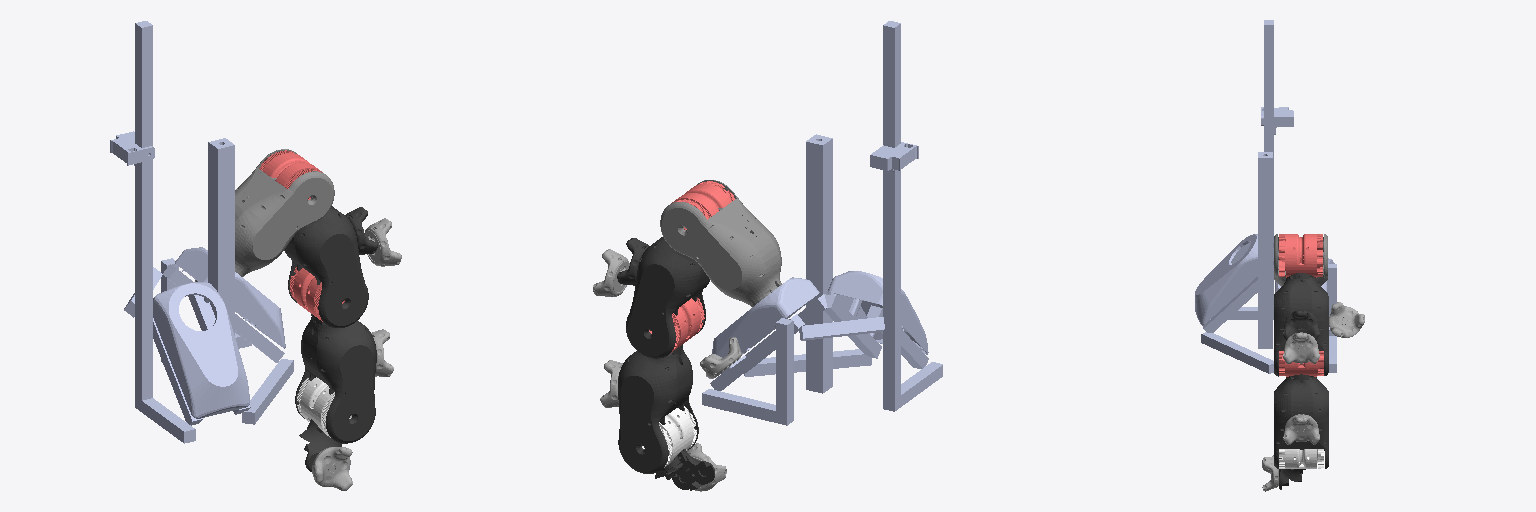
URDF robot description (koko_description_sevendof_kin):
<robot
  name="koko_description_sevendof_kin">
  <link name="world"/>
  <link
    name="base_link">
    <inertial>
      <origin
        xyz="-0.0162355282130734 -0.163407878532806 0.226370025444826"
        rpy="0 0 0" />
      <mass
        value="3.09843836934056" />
      <inertia
        ixx="0.138191233116688"
        ixy="-0.00802218717745325"
        ixz="0.0273663369091256"
        iyy="0.148987368304478"
        iyz="0.000607150072268011"
        izz="0.048852842888534" />
    </inertial>
    <visual>
      <origin
        xyz="0 0 0"
        rpy="0 0 0" />
      <geometry>
        <mesh
          filename="package://koko_description_sevendof_kin/meshes/base_link.STL" />
      </geometry>
      <material
        name="">
        <color
          rgba="0.792156862745098 0.819607843137255 0.933333333333333 1" />
      </material>
    </visual>
    <collision>
      <origin
        xyz="0 0 0"
        rpy="0 0 0" />
      <geometry>
        <mesh
          filename="package://koko_description_sevendof_kin/meshes/base_link.STL" />
      </geometry>
    </collision>
  </link>
  <link
    name="shoulder_link">
    <inertial>
      <origin
        xyz="-0.00747864351627375 -2.50397592105878E-05 0.0799283081146881"
        rpy="0 0 0" />
      <mass
        value="4.07268991609326" />
      <inertia
        ixx="0.00617147281166975"
        ixy="-6.49724457121408E-07"
        ixz="-7.27903739429383E-06"
        iyy="0.0063318653169091"
        iyz="-4.16732368499518E-07"
        izz="0.00594002741384536" />
    </inertial>
    <visual>
      <origin
        xyz="0 0 0"
        rpy="0 0 0" />
      <geometry>
        <mesh
          filename="package://koko_description_sevendof_kin/meshes/shoulder_link.STL" />
      </geometry>
      <material
        name="">
        <color
          rgba="0.6 0.6 0.6 1" />
      </material>
    </visual>
    <collision>
      <origin
        xyz="0 0 0"
        rpy="0 0 0" />
      <geometry>
        <mesh
          filename="package://koko_description_sevendof_kin/meshes/shoulder_link.STL" />
      </geometry>
    </collision>
  </link>
  <joint
    name="base_roll_joint"
    type="continuous">
    <origin
      xyz="0.0966447291250239 -0.0908049999999999 0.218621617367798"
      rpy="6.83851519316138E-15 0.785398163397447 4.83556046633164E-15" />
    <parent
      link="base_link" />
    <child
      link="shoulder_link" />
    <axis
      xyz="0 0 1" />
  </joint>
  <link
    name="shoulder_lift_link">
    <inertial>
      <origin
        xyz="-0.000676899401893527 0.0018433180520101 -2.77770789702814E-08"
        rpy="0 0 0" />
      <mass
        value="0.437261383344117" />
      <inertia
        ixx="0.00102940359203976"
        ixy="-2.02406904345771E-05"
        ixz="-6.05075416333182E-07"
        iyy="0.00107935729264567"
        iyz="-8.0338056417151E-07"
        izz="0.000657525915707047" />
    </inertial>
    <visual>
      <origin
        xyz="0 0 0"
        rpy="0 0 0" />
      <geometry>
        <mesh
          filename="package://koko_description_sevendof_kin/meshes/shoulder_lift_link.STL" />
      </geometry>
      <material
        name="">
        <color
          rgba="1 0.501960784313725 0.501960784313725 1" />
      </material>
    </visual>
    <collision>
      <origin
        xyz="0 0 0"
        rpy="0 0 0" />
      <geometry>
        <mesh
          filename="package://koko_description_sevendof_kin/meshes/shoulder_lift_link.STL" />
      </geometry>
    </collision>
  </link>
  <joint
    name="shoulder_lift_joint"
    type="continuous">
    <origin
      xyz="0.0114299285786579 4.04065193964076E-05 0.201676000000001"
      rpy="1.5707963267949 -0.785395039094458 0.0035351359132397" />
    <parent
      link="shoulder_link" />
    <child
      link="shoulder_lift_link" />
    <axis
      xyz="0 0 1" />
  </joint>
  <link
    name="upper_arm_link">
    <inertial>
      <origin
        xyz="0.0070833841046884 -1.71819518151595E-05 0.0555370874496117"
        rpy="0 0 0" />
      <mass
        value="4.18907578737678" />
      <inertia
        ixx="0.00781255478717919"
        ixy="5.14383226102207E-07"
        ixz="0.000159572102703506"
        iyy="0.00800712978437617"
        iyz="1.49483634622705E-06"
        izz="0.00602786031254171" />
    </inertial>
    <visual>
      <origin
        xyz="0 0 0"
        rpy="0 0 0" />
      <geometry>
        <mesh
          filename="package://koko_description_sevendof_kin/meshes/upper_arm_link.STL" />
      </geometry>
      <material
        name="">
        <color
          rgba="0.298039215686275 0.298039215686275 0.298039215686275 1" />
      </material>
    </visual>
    <collision>
      <origin
        xyz="0 0 0"
        rpy="0 0 0" />
      <geometry>
        <mesh
          filename="package://koko_description_sevendof_kin/meshes/upper_arm_link.STL" />
      </geometry>
    </collision>
  </link>
  <joint
    name="shoulder_roll_joint"
    type="continuous">
    <origin
      xyz="0.0245928594751605 -0.0662368609534871 0"
      rpy="1.5707963267949 -0.00266644576657517 0.355511126450564" />
    <parent
      link="shoulder_lift_link" />
    <child
      link="upper_arm_link" />
    <axis
      xyz="0 0 -1" />
  </joint>
  <link
    name="upper_arm_tracker_link">
    <inertial>
      <origin
        xyz="-5.22464942198653E-07 3.04440674980255E-05 0.0143118472437344"
        rpy="0 0 0" />
      <mass
        value="0.0852060551384698" />
      <inertia
        ixx="5.0259679636726E-05"
        ixy="3.31729794270551E-09"
        ixz="9.97594746056167E-10"
        iyy="5.05437136305498E-05"
        iyz="-1.54431162931432E-07"
        izz="8.48824712915186E-05" />
    </inertial>
    <visual>
      <origin
        xyz="0 0 0"
        rpy="0 0 0" />
      <geometry>
        <mesh
          filename="package://koko_description_sevendof_kin/meshes/upper_arm_tracker_link.STL" />
      </geometry>
      <material
        name="">
        <color
          rgba="0.698039215686274 0.698039215686274 0.698039215686274 1" />
      </material>
    </visual>
    <collision>
      <origin
        xyz="0 0 0"
        rpy="0 0 0" />
      <geometry>
        <mesh
          filename="package://koko_description_sevendof_kin/meshes/upper_arm_tracker_link.STL" />
      </geometry>
    </collision>
  </link>
  <joint
    name="upper_arm_tracker_joint"
    type="fixed">
    <origin
      xyz="0.0683718268246616 -0.000182516337945637 0.096542684260402"
      rpy="1.26028781893805 -2.27414330644165E-05 1.56813717848772" />
    <parent
      link="upper_arm_link" />
    <child
      link="upper_arm_tracker_link" />
    <axis
      xyz="0 0 0" />
  </joint>
  <link
    name="upper_arm_lift_link">
    <inertial>
      <origin
        xyz="-0.000105474282203089 0.00200117636989308 2.90462086605103E-08"
        rpy="0 0 0" />
      <mass
        value="0.424523133438859" />
      <inertia
        ixx="0.00100928705819507"
        ixy="-7.12152739432192E-06"
        ixz="-1.82982482423601E-06"
        iyy="0.00107277793996398"
        iyz="-7.5965992301599E-07"
        izz="0.00065849713712334" />
    </inertial>
    <visual>
      <origin
        xyz="0 0 0"
        rpy="0 0 0" />
      <geometry>
        <mesh
          filename="package://koko_description_sevendof_kin/meshes/upper_arm_lift_link.STL" />
      </geometry>
      <material
        name="">
        <color
          rgba="1 0.501960784313725 0.501960784313725 1" />
      </material>
    </visual>
    <collision>
      <origin
        xyz="0 0 0"
        rpy="0 0 0" />
      <geometry>
        <mesh
          filename="package://koko_description_sevendof_kin/meshes/upper_arm_lift_link.STL" />
      </geometry>
    </collision>
  </link>
  <joint
    name="elbow_lift_joint"
    type="continuous">
    <origin
      xyz="-0.0114299548892374 3.04756154084207E-05 0.181015691851649"
      rpy="-1.5707963267949 -0.355504877844586 -0.0026664457665753" />
    <parent
      link="upper_arm_link" />
    <child
      link="upper_arm_lift_link" />
    <axis
      xyz="0 0 1" />
  </joint>
  <link
    name="forearm_link">
    <inertial>
      <origin
        xyz="0.00737184271707708 -6.85904067550536E-05 0.0579584206277633"
        rpy="0 0 0" />
      <mass
        value="4.11546002232608" />
      <inertia
        ixx="0.0066395722416814"
        ixy="4.24565711453013E-07"
        ixz="-3.06041081234074E-05"
        iyy="0.00678943046956531"
        iyz="1.89471924685132E-06"
        izz="0.00596314364300775" />
    </inertial>
    <visual>
      <origin
        xyz="0 0 0"
        rpy="0 0 0" />
      <geometry>
        <mesh
          filename="package://koko_description_sevendof_kin/meshes/forearm_link.STL" />
      </geometry>
      <material
        name="">
        <color
          rgba="0.298039215686275 0.298039215686275 0.298039215686275 1" />
      </material>
    </visual>
    <collision>
      <origin
        xyz="0 0 0"
        rpy="0 0 0" />
      <geometry>
        <mesh
          filename="package://koko_description_sevendof_kin/meshes/forearm_link.STL" />
      </geometry>
    </collision>
  </link>
  <joint
    name="elbow_roll_joint"
    type="continuous">
    <origin
      xyz="0.00778446477696024 -0.0702248702858572 0"
      rpy="1.5707963267949 -0.00251502707069075 0.11039980475715" />
    <parent
      link="upper_arm_lift_link" />
    <child
      link="forearm_link" />
    <axis
      xyz="0 0 -1" />
  </joint>
  <link
    name="forearm_tracker_link">
    <inertial>
      <origin
        xyz="-7.74192845831578E-07 3.04089992303816E-05 0.0143118681036248"
        rpy="0 0 0" />
      <mass
        value="0.0852058022688607" />
      <inertia
        ixx="5.0260071728666E-05"
        ixy="3.55456080504509E-09"
        ixz="7.91264380331003E-10"
        iyy="5.05430652693239E-05"
        iyz="-1.54448659241291E-07"
        izz="8.48822157077125E-05" />
    </inertial>
    <visual>
      <origin
        xyz="0 0 0"
        rpy="0 0 0" />
      <geometry>
        <mesh
          filename="package://koko_description_sevendof_kin/meshes/forearm_tracker_link.STL" />
      </geometry>
      <material
        name="">
        <color
          rgba="0.698039215686274 0.698039215686274 0.698039215686274 1" />
      </material>
    </visual>
    <collision>
      <origin
        xyz="0 0 0"
        rpy="0 0 0" />
      <geometry>
        <mesh
          filename="package://koko_description_sevendof_kin/meshes/forearm_tracker_link.STL" />
      </geometry>
    </collision>
  </link>
  <joint
    name="forearm_tracker_joint"
    type="fixed">
    <origin
      xyz="0.0683718588662071 -0.00017216266999398 0.0965426886755783"
      rpy="1.26028779817361 -4.44479261962489E-05 1.56829556254391" />
    <parent
      link="forearm_link" />
    <child
      link="forearm_tracker_link" />
    <axis
      xyz="0 0 0" />
  </joint>
  <link
    name="wrist_lift_link">
    <inertial>
      <origin
        xyz="0.000171521014611542 -6.19944531961292E-06 -3.01224768550767E-06"
        rpy="0 0 0" />
      <mass
        value="0.475481880133676" />
      <inertia
        ixx="0.00106768276657483"
        ixy="1.00352262528229E-05"
        ixz="-1.91177617597253E-06"
        iyy="0.00107964438509909"
        iyz="1.67598805754424E-07"
        izz="0.000709539424038312" />
    </inertial>
    <visual>
      <origin
        xyz="0 0 0"
        rpy="0 0 0" />
      <geometry>
        <mesh
          filename="package://koko_description_sevendof_kin/meshes/wrist_lift_link.STL" />
      </geometry>
      <material
        name="">
        <color
          rgba="1 1 1 1" />
      </material>
    </visual>
    <collision>
      <origin
        xyz="0 0 0"
        rpy="0 0 0" />
      <geometry>
        <mesh
          filename="package://koko_description_sevendof_kin/meshes/wrist_lift_link.STL" />
      </geometry>
    </collision>
  </link>
  <joint
    name="wrist_lift_joint"
    type="continuous">
    <origin
      xyz="-0.0114299638504637 2.87467290271959E-05 0.181015691664385"
      rpy="-1.5707963267949 -0.110406053363127 -0.00251502707069052" />
    <parent
      link="forearm_link" />
    <child
      link="wrist_lift_link" />
    <axis
      xyz="0 0 1" />
  </joint>
  <link
    name="wrist_link">
    <inertial>
      <origin
        xyz="0.000133905061076023 0.0296368053227392 -0.00232411667292283"
        rpy="0 0 0" />
      <mass
        value="1.01420215185203" />
      <inertia
        ixx="0.00110387489588739"
        ixy="2.2127874012841E-06"
        ixz="1.1041854783033E-06"
        iyy="0.00134522178489409"
        iyz="-0.000383958748120739"
        izz="0.00100334027816818" />
    </inertial>
    <visual>
      <origin
        xyz="0 0 0"
        rpy="0 0 0" />
      <geometry>
        <mesh
          filename="package://koko_description_sevendof_kin/meshes/wrist_link.STL" />
      </geometry>
      <material
        name="">
        <color
          rgba="0.298039215686275 0.298039215686275 0.298039215686275 1" />
      </material>
    </visual>
    <collision>
      <origin
        xyz="0 0 0"
        rpy="0 0 0" />
      <geometry>
        <mesh
          filename="package://koko_description_sevendof_kin/meshes/wrist_link.STL" />
      </geometry>
    </collision>
  </link>
  <joint
    name="wrist_joint"
    type="continuous">
    <origin
      xyz="-0.0363404635566231 -0.067215817115381 0"
      rpy="1.57079632679489 -0.00284167609972037 -0.49563904972794" />
    <parent
      link="wrist_lift_link" />
    <child
      link="wrist_link" />
    <axis
      xyz="0 0 -1" />
  </joint>
  <link
    name="ee_tracker_link">
    <inertial>
      <origin
        xyz="-1.43305547234407E-06 3.07686086425812E-05 0.0143119732879843"
        rpy="0 0 0" />
      <mass
        value="0.0852083038792347" />
      <inertia
        ixx="5.02597890613365E-05"
        ixy="3.05566589570515E-09"
        ixz="1.41676664956206E-09"
        iyy="5.05458638065493E-05"
        iyz="-1.54535044158343E-07"
        izz="8.4884681388761E-05" />
    </inertial>
    <visual>
      <origin
        xyz="0 0 0"
        rpy="0 0 0" />
      <geometry>
        <mesh
          filename="package://koko_description_sevendof_kin/meshes/ee_tracker_link.STL" />
      </geometry>
      <material
        name="">
        <color
          rgba="0.698039215686274 0.698039215686274 0.698039215686274 1" />
      </material>
    </visual>
    <collision>
      <origin
        xyz="0 0 0"
        rpy="0 0 0" />
      <geometry>
        <mesh
          filename="package://koko_description_sevendof_kin/meshes/ee_tracker_link.STL" />
      </geometry>
    </collision>
  </link>
  <joint
    name="ee_tracker_joint"
    type="fixed">
    <origin
      xyz="0.000165588595298471 0.0582694656497648 0.0275400008691862"
      rpy="1.5707963267949 -3.52354834015197E-05 3.13875097749008" />
    <parent
      link="wrist_link" />
    <child
      link="ee_tracker_link" />
    <axis
      xyz="0 0 0" />
  </joint>
  <link
    name="base_tracker_link">
    <inertial>
      <origin
        xyz="4.43507453679048E-08 3.09552203211494E-05 0.0143117399037371"
        rpy="0 0 0" />
      <mass
        value="0.0852031301907352" />
      <inertia
        ixx="5.02578521392565E-05"
        ixy="4.79258975374984E-09"
        ixz="9.20656645300779E-10"
        iyy="5.05426153010018E-05"
        iyz="-1.54378610465989E-07"
        izz="8.48796208959856E-05" />
    </inertial>
    <visual>
      <origin
        xyz="0 0 0"
        rpy="0 0 0" />
      <geometry>
        <mesh
          filename="package://koko_description_sevendof_kin/meshes/base_tracker_link.STL" />
      </geometry>
      <material
        name="">
        <color
          rgba="0.698039215686274 0.698039215686274 0.698039215686274 1" />
      </material>
    </visual>
    <collision>
      <origin
        xyz="0 0 0"
        rpy="0 0 0" />
      <geometry>
        <mesh
          filename="package://koko_description_sevendof_kin/meshes/base_tracker_link.STL" />
      </geometry>
    </collision>
  </link>
  <joint
    name="base_tracker_joint"
    type="fixed">
    <origin
      xyz="0.122544343576621 0.0211413433675803 0.104502933199187"
      rpy="-0.00215895279379528 -0.78539656263699 -3.1385396042896" />
    <parent
      link="base_link" />
    <child
      link="base_tracker_link" />
    <axis
      xyz="0 0 0" />
  </joint>
  <link
    name="kinect_link">
    <inertial>
      <origin
        xyz="-0.0952490898693 0.00471420843080317 -0.0346426773697052"
        rpy="0 0 0" />
      <mass
        value="0.813673516453062" />
      <inertia
        ixx="0.000581150692622535"
        ixy="4.62294718788866E-07"
        ixz="-1.50876493820384E-05"
        iyy="0.00408834053911525"
        iyz="-2.71687565363891E-05"
        izz="0.00394908691785969" />
    </inertial>
    <visual>
      <origin
        xyz="0 0 0"
        rpy="0 0 0" />
      <geometry>
        <mesh
          filename="package://koko_description_sevendof_kin/meshes/kinect_link.STL" />
      </geometry>
      <material
        name="">
        <color
          rgba="0.101960784313725 0.101960784313725 0.101960784313725 1" />
      </material>
    </visual>
    <collision>
      <origin
        xyz="0 0 0"
        rpy="0 0 0" />
      <geometry>
        <mesh
          filename="package://koko_description_sevendof_kin/meshes/kinect_link.STL" />
      </geometry>
    </collision>
  </link>
  <joint
    name="kinect_joint"
    type="fixed">
    <origin
      xyz="-0.2028 -0.18952 0.52978"
      rpy="1.5662 1.5708 0" />
    <parent
      link="base_link" />
    <child
      link="kinect_link" />
    <axis
      xyz="0 0 0" />
  </joint>

  <joint name ="world_joint" type= "fixed">
    <origin xyz="0 0 2" rpy="0 0 0" />
    <parent link="world"/>
    <child link="base_link"/>
  </joint>

  <transmission name="tran1">
    <type>transmission_interface/SimpleTransmission</type>
    <joint name="base_roll_joint"><hardwareInterface>EffortJointInterface</hardwareInterface>
    </joint>
    <actuator name="motor1">
      <hardwareInterface>EffortJointInterface</hardwareInterface>
      <mechanicalReduction>1</mechanicalReduction>
    </actuator>
  </transmission>

  <transmission name="tran2">
    <type>transmission_interface/SimpleTransmission</type>
    <joint name="shoulder_lift_joint"><hardwareInterface>EffortJointInterface</hardwareInterface>
    </joint>
    <actuator name="motor2">
      <hardwareInterface>EffortJointInterface</hardwareInterface>
      <mechanicalReduction>1</mechanicalReduction>
    </actuator>
  </transmission>

  <transmission name="tran3">
    <type>transmission_interface/SimpleTransmission</type>
    <joint name="shoulder_roll_joint"><hardwareInterface>EffortJointInterface</hardwareInterface>
    </joint>
    <actuator name="motor3">
      <hardwareInterface>EffortJointInterface</hardwareInterface>
      <mechanicalReduction>1</mechanicalReduction>
    </actuator>
  </transmission>
  
  <transmission name="tran4">
    <type>transmission_interface/SimpleTransmission</type>
    <joint name="elbow_lift_joint"><hardwareInterface>EffortJointInterface</hardwareInterface>
    </joint>
    <actuator name="motor4">
      <hardwareInterface>EffortJointInterface</hardwareInterface>
      <mechanicalReduction>1</mechanicalReduction>
    </actuator>
  </transmission>

  <transmission name="tran5">
    <type>transmission_interface/SimpleTransmission</type>
    <joint name="elbow_roll_joint"><hardwareInterface>EffortJointInterface</hardwareInterface>
    </joint>
    <actuator name="motor5">
      <hardwareInterface>EffortJointInterface</hardwareInterface>
      <mechanicalReduction>1</mechanicalReduction>
    </actuator>
  </transmission>

  <transmission name="tran6">
    <type>transmission_interface/SimpleTransmission</type>
    <joint name="wrist_lift_joint"><hardwareInterface>EffortJointInterface</hardwareInterface>
    </joint>
    <actuator name="motor6">
      <hardwareInterface>EffortJointInterface</hardwareInterface>
      <mechanicalReduction>1</mechanicalReduction>
    </actuator>
  </transmission>

  <transmission name="tran7">
    <type>transmission_interface/SimpleTransmission</type>
    <joint name="wrist_joint"><hardwareInterface>EffortJointInterface</hardwareInterface>
    </joint>
    <actuator name="motor7">
      <hardwareInterface>EffortJointInterface</hardwareInterface>
      <mechanicalReduction>1</mechanicalReduction>
    </actuator>
  </transmission>

  <gazebo>
    <plugin name="gazebo_ros_control" filename="libgazebo_ros_control.so">
      <robotNamespace>/DOF</robotNamespace>
    </plugin>
  </gazebo>

</robot>

--- Render facts (derived) ---
Views: 3 orthographic renders of the robot side by side, from view 1: azimuth 30°, elevation 25°; view 2: azimuth 150°, elevation 25°; view 3: azimuth 270°, elevation 25°.
Robot: koko_description_sevendof_kin — 14 links, 13 joints (7 continuous, 6 fixed); root link world; default pose: all joints at 0.
Links seen in each view (by area): view 1: base_link, shoulder_link, forearm_link, upper_arm_link, ee_tracker_link, wrist_lift_link, shoulder_lift_link, upper_arm_lift_link, upper_arm_tracker_link, wrist_link, forearm_tracker_link; view 2: base_link, shoulder_link, forearm_link, upper_arm_link, wrist_link, wrist_lift_link, shoulder_lift_link, upper_arm_lift_link, upper_arm_tracker_link, base_tracker_link, forearm_tracker_link, ee_tracker_link; view 3: base_link, upper_arm_link, forearm_link, shoulder_lift_link, base_tracker_link, upper_arm_tracker_link, wrist_lift_link, forearm_tracker_link, upper_arm_lift_link, shoulder_link.
Boxes of the visible links, bbox=[...] form: base_link: bbox=[110, 21, 293, 443]; shoulder_link: bbox=[235, 149, 334, 276]; forearm_link: bbox=[295, 314, 376, 443]; upper_arm_link: bbox=[284, 206, 377, 327]; ee_tracker_link: bbox=[312, 447, 352, 490]; wrist_lift_link: bbox=[297, 377, 351, 437]; shoulder_lift_link: bbox=[259, 150, 322, 199]; upper_arm_lift_link: bbox=[290, 267, 344, 321]; upper_arm_tracker_link: bbox=[365, 218, 401, 266]; wrist_link: bbox=[299, 419, 341, 471]; forearm_tracker_link: bbox=[371, 329, 393, 376]; base_link: bbox=[702, 21, 942, 425]; shoulder_link: bbox=[660, 180, 781, 306]; forearm_link: bbox=[618, 344, 698, 473]; upper_arm_link: bbox=[617, 237, 709, 358]; wrist_link: bbox=[655, 449, 714, 490]; wrist_lift_link: bbox=[642, 406, 696, 467]; shoulder_lift_link: bbox=[671, 181, 734, 229]; upper_arm_lift_link: bbox=[649, 297, 704, 352]; upper_arm_tracker_link: bbox=[593, 249, 629, 296]; base_tracker_link: bbox=[700, 337, 741, 378]; forearm_tracker_link: bbox=[600, 360, 622, 407]; ee_tracker_link: bbox=[687, 443, 726, 491]; base_link: bbox=[1195, 20, 1336, 373]; upper_arm_link: bbox=[1274, 273, 1328, 376]; forearm_link: bbox=[1274, 374, 1328, 468]; shoulder_lift_link: bbox=[1279, 234, 1322, 277]; base_tracker_link: bbox=[1329, 302, 1364, 337]; upper_arm_tracker_link: bbox=[1283, 332, 1319, 363]; wrist_lift_link: bbox=[1279, 449, 1323, 468]; forearm_tracker_link: bbox=[1283, 414, 1319, 444]; upper_arm_lift_link: bbox=[1279, 351, 1323, 376]; shoulder_link: bbox=[1274, 234, 1327, 286].
Size in the robot's own frame: 0.6515 by 0.43 by 1.1 metres.
Meshes: 13 distinct files referenced, 12 mesh visuals loaded (12 binary STL); not drawn: 1 (reference not matched to a file when rendering).